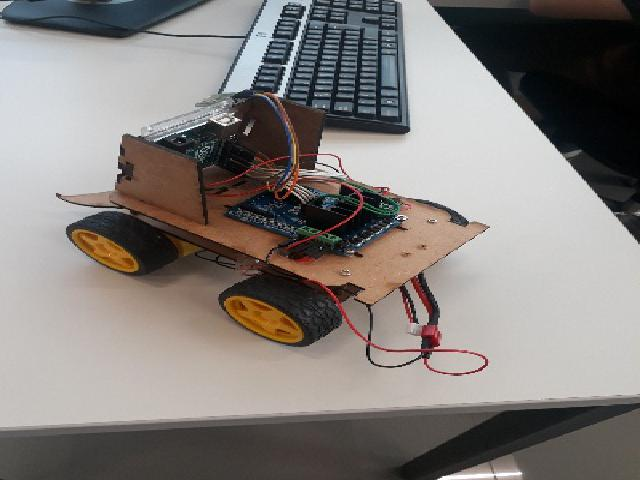Robot: (56, 89, 490, 346)
